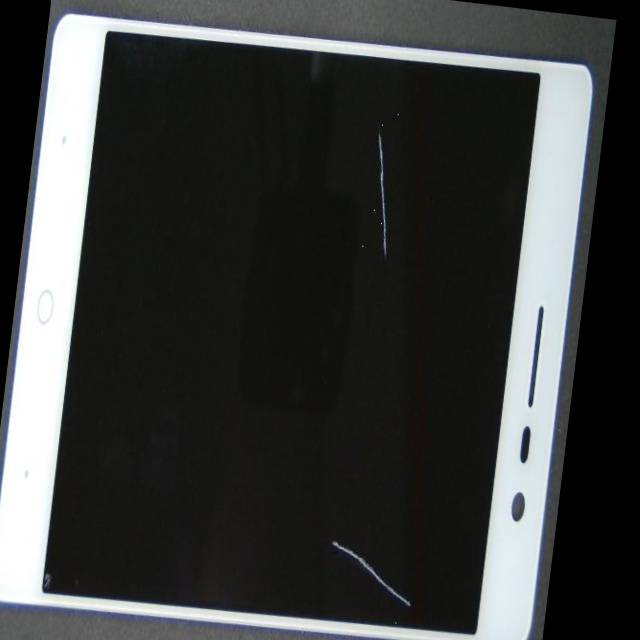scratch: (174, 237, 567, 640), (200, 11, 548, 198)
